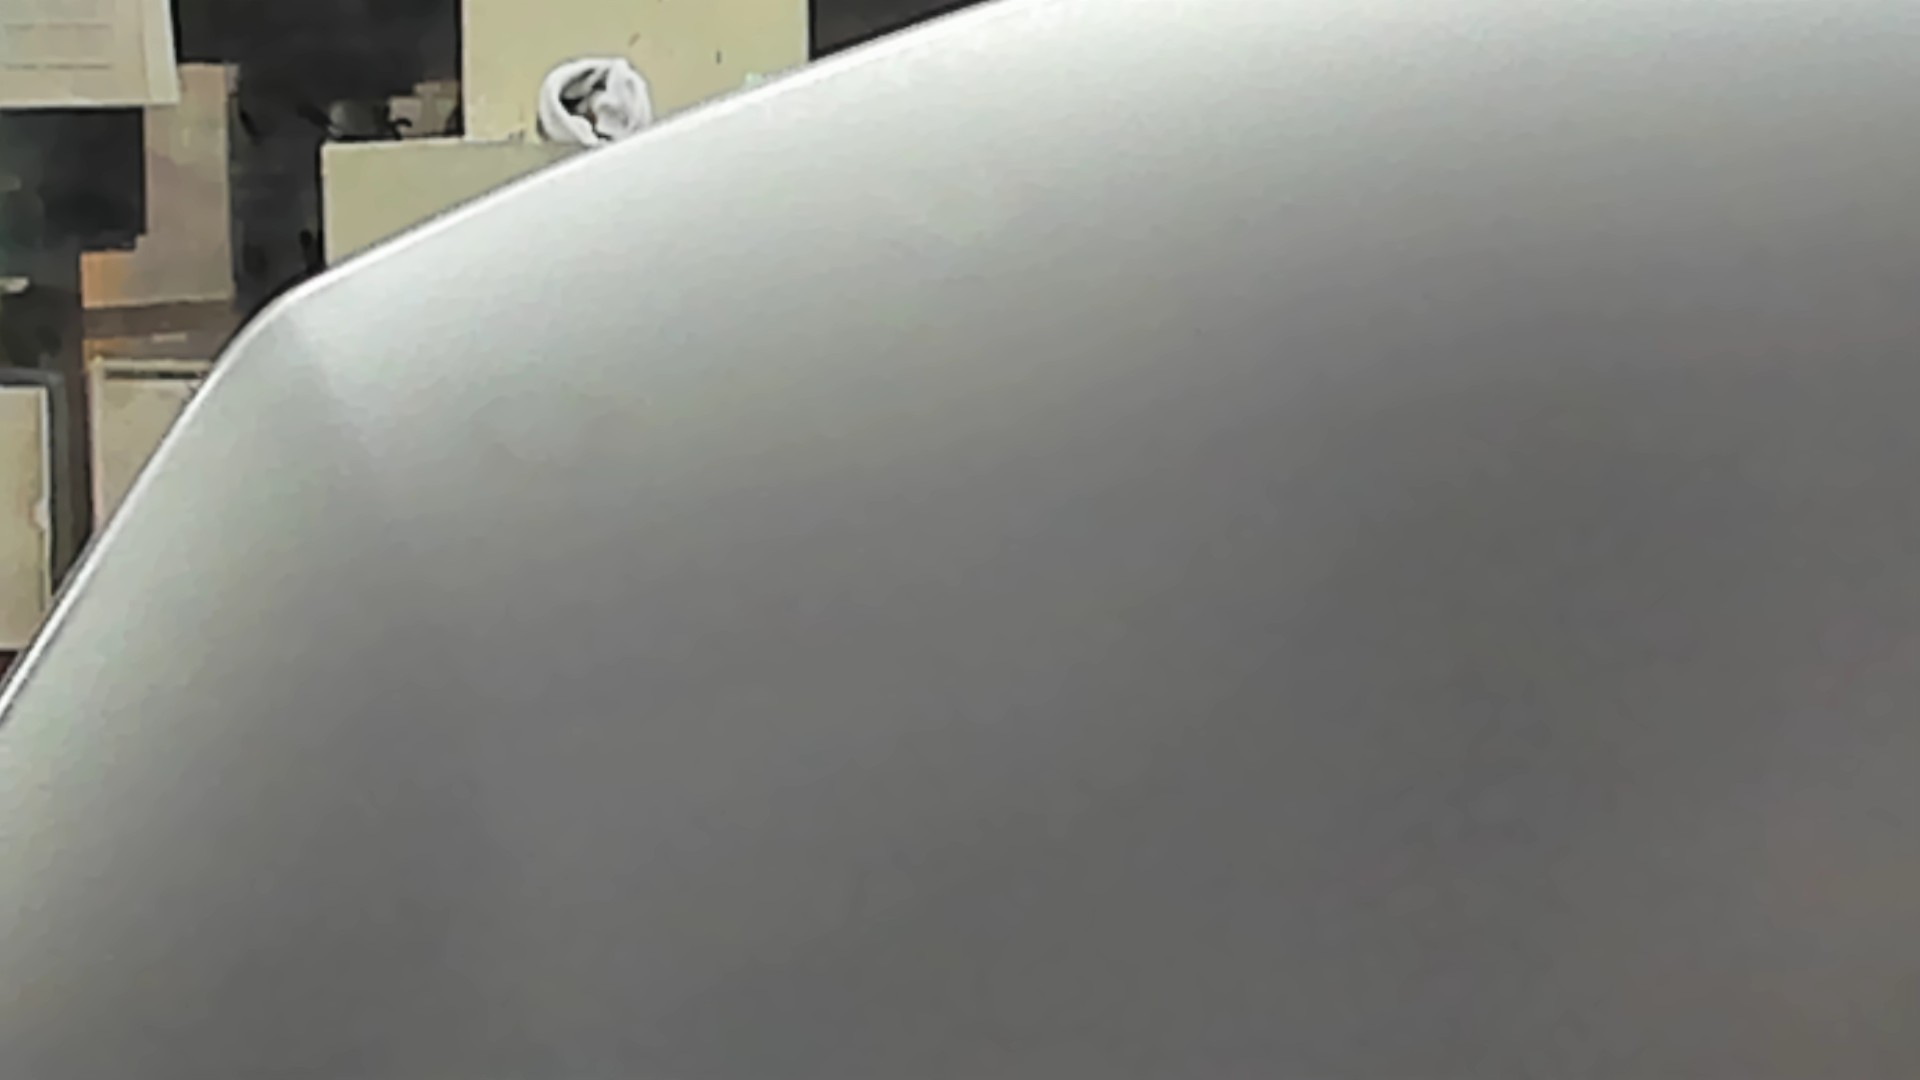capo: (546, 193, 1920, 1080)
